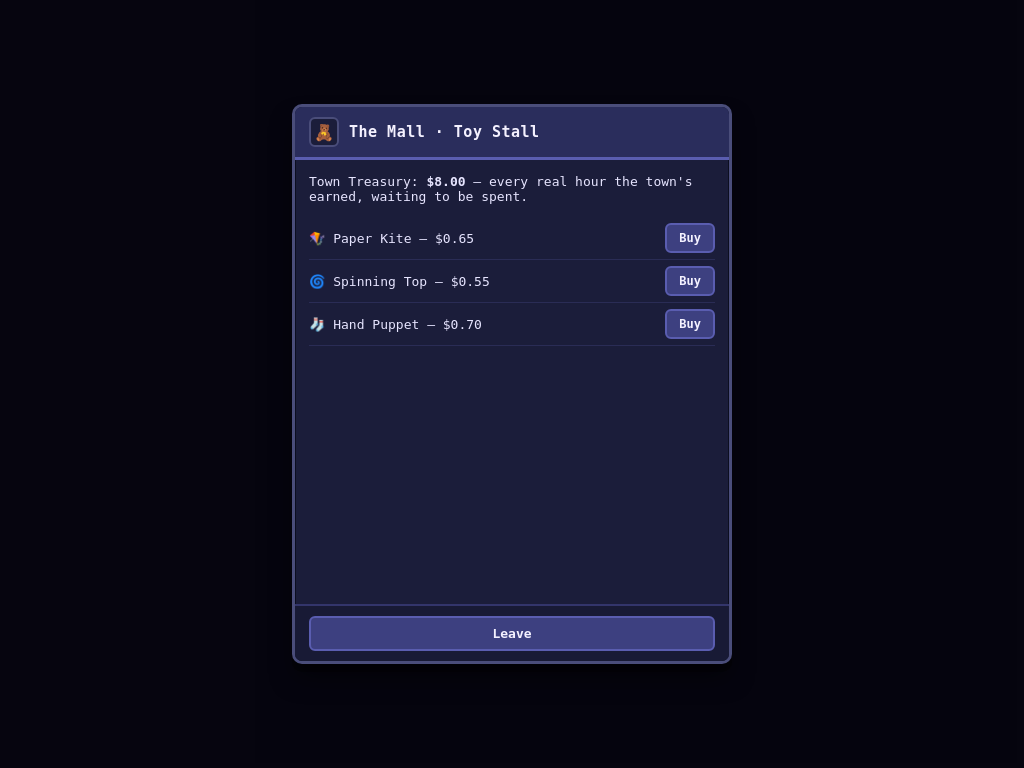
Scenario: BusinessOverlay (business.md) › the Mall — a real multi-stall business (mall.md, backlog #83) › buying a good at one stall never marks a same-named-shape good at a different stall as owned
The image size is (1024, 768).
Click the button "Buy" in the row of "Paper Kite" at (690,238), box [665,223,715,253]
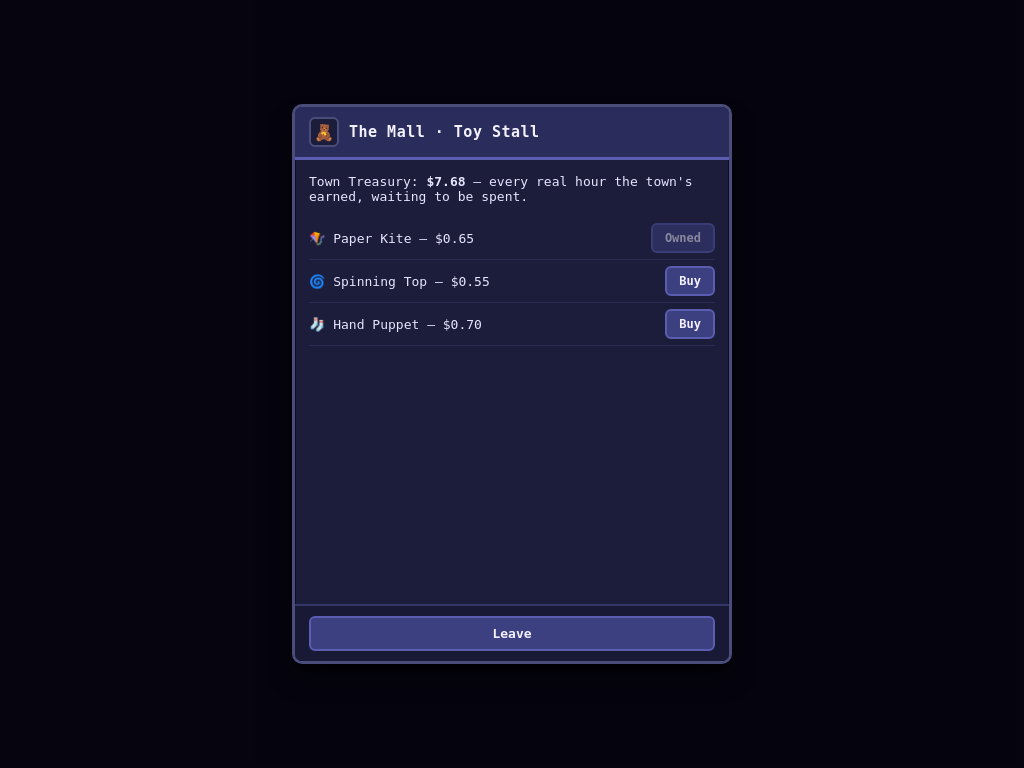
Result: the button "Owned" is shown at [651,223,715,253]
